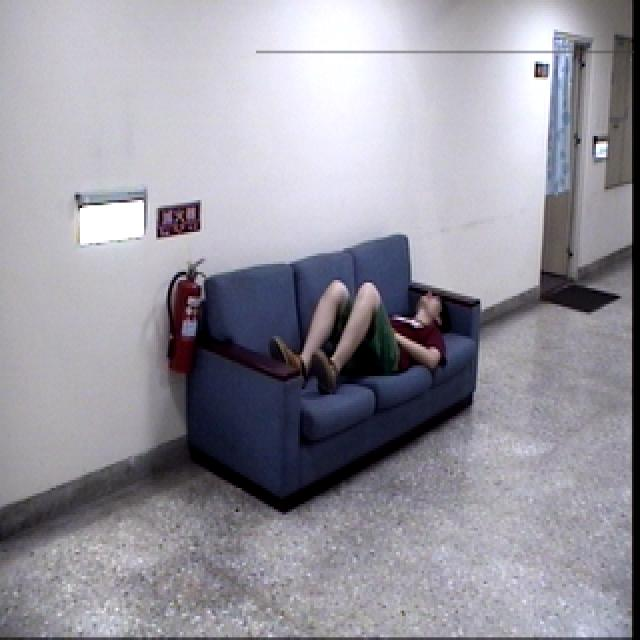lie: (265, 277, 453, 401)
